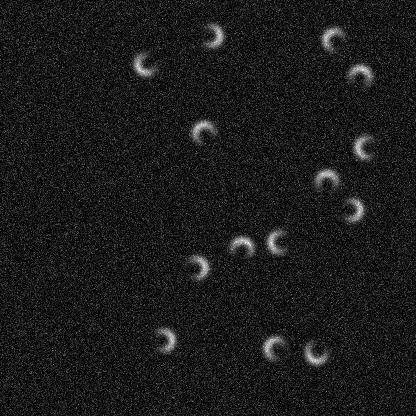Janus: (264, 226, 294, 256), (147, 325, 177, 355), (335, 194, 365, 224), (189, 118, 219, 148), (260, 333, 290, 363), (131, 48, 161, 78), (301, 336, 331, 366), (319, 25, 349, 55), (351, 132, 381, 162), (344, 62, 374, 92), (180, 252, 210, 282), (195, 20, 225, 50), (311, 167, 341, 197), (226, 234, 256, 264)
